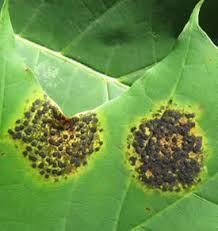Diseased_Leaves: (15, 97, 110, 183), (135, 97, 207, 155), (144, 156, 202, 190)
